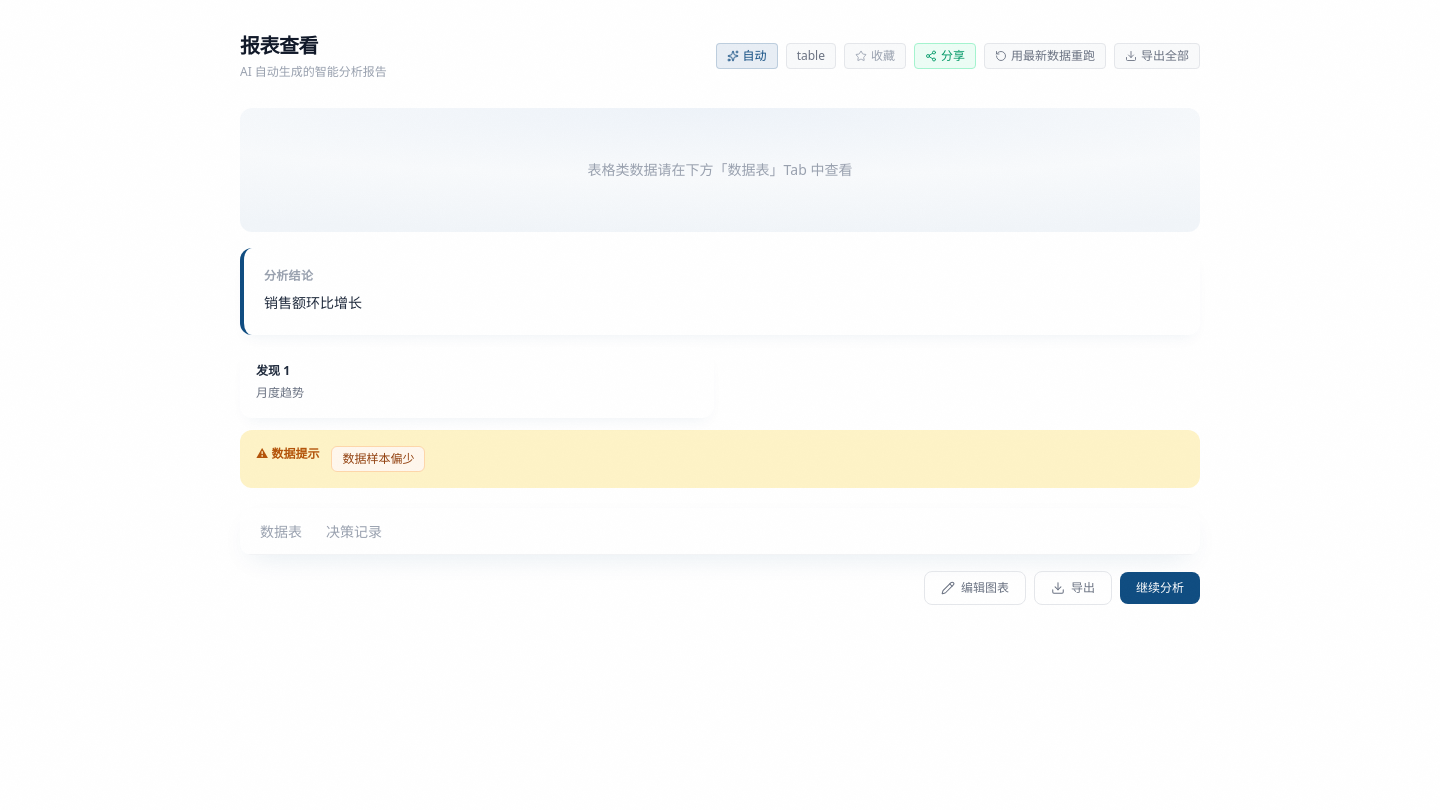
Test: Report 统一下载对话框 › 表格型报表不出现「图表图片」选项
The image size is (1440, 810).
Expected: the heading "报表查看" is shown, [240, 32, 318, 59]
Click the button "导出": (1073, 588) [1034, 571, 1112, 605]
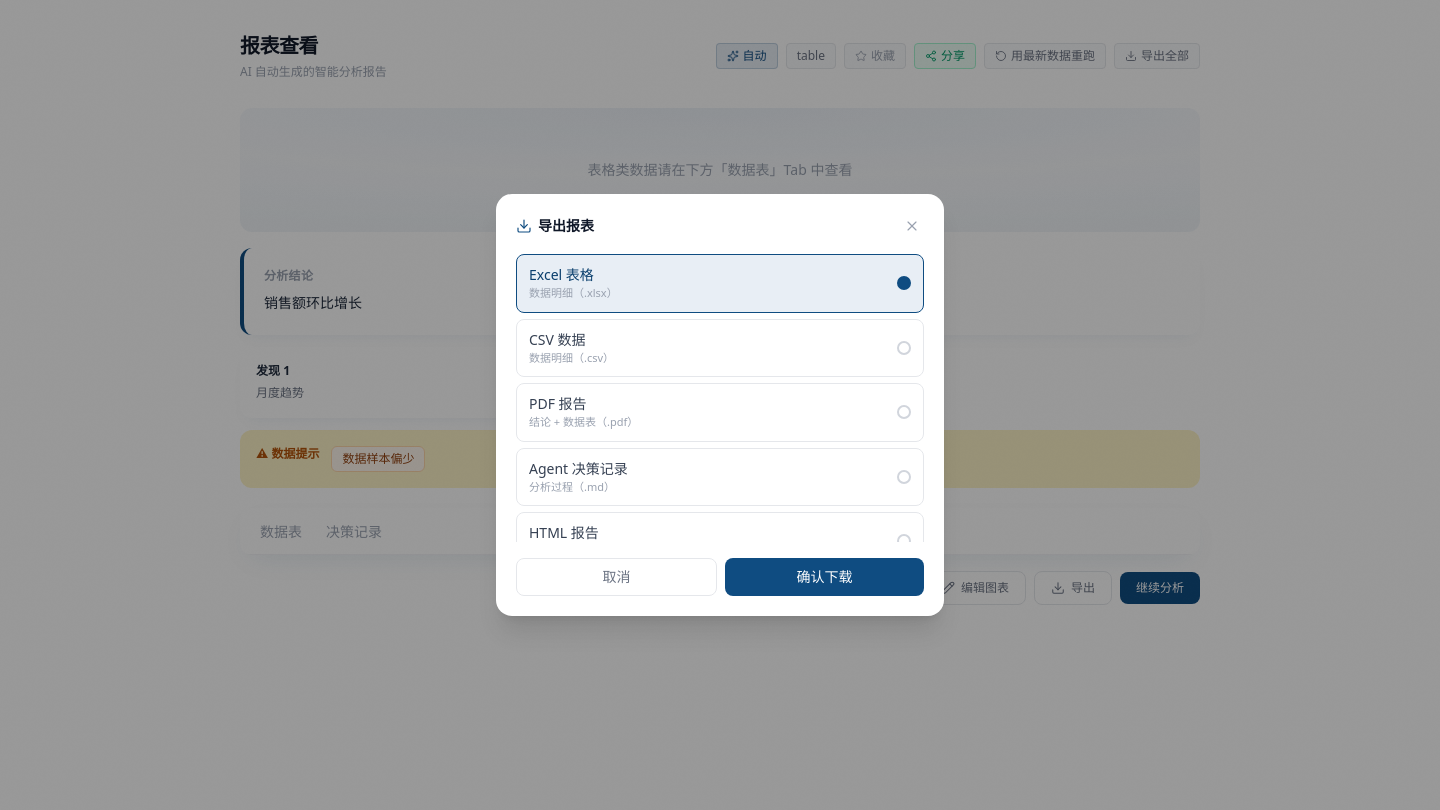
Result: the text "Excel 表格" is shown at [529, 265, 594, 284]
